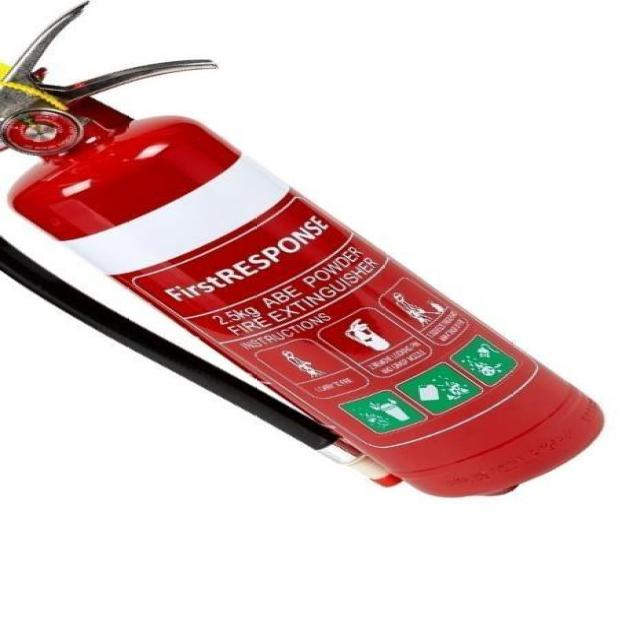fire_extinguisher: (0, 0, 608, 501)
